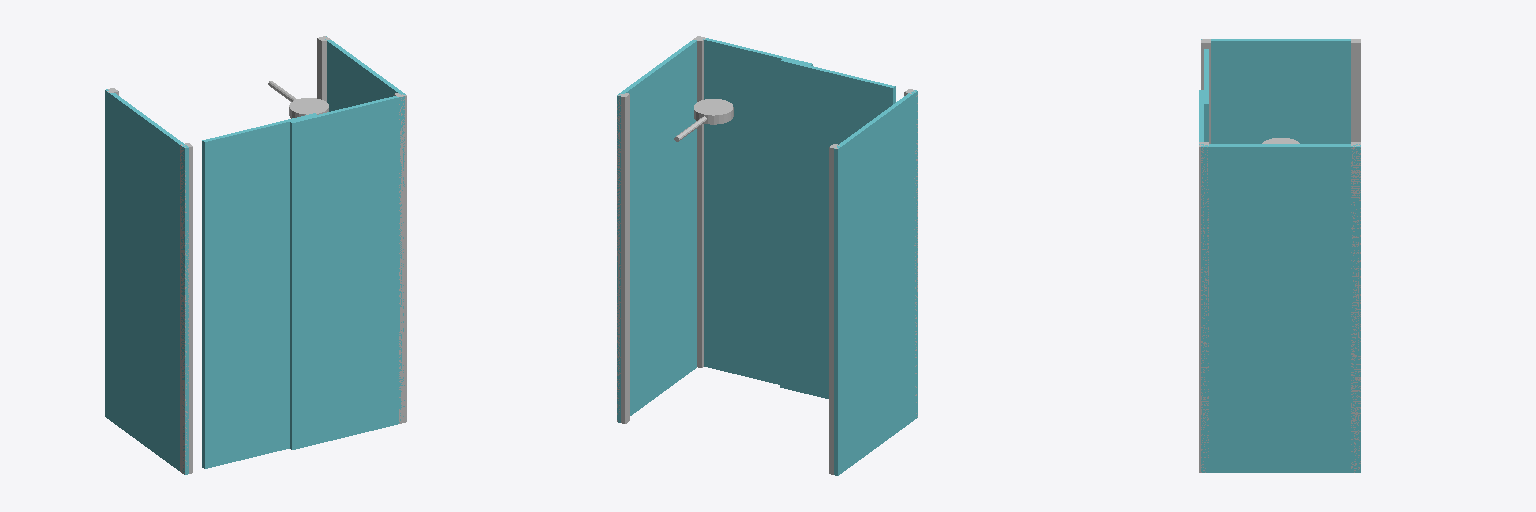
Rendered from shower.obj.
3 renders of one model, left to right at view 1: azimuth 30°, elevation 25°; view 2: azimuth 150°, elevation 25°; view 3: azimuth 270°, elevation 25°, orthographic.
Visible parts, largest first — view 1: mesh01; view 2: mesh01; view 3: mesh01.
Boxes of the visible parts, <box> form: mesh01: <box>105,36,406,474</box>; mesh01: <box>617,36,917,475</box>; mesh01: <box>1199,39,1360,472</box>.
Size of the model in its own units: 3.19 by 4.5 by 2.03.